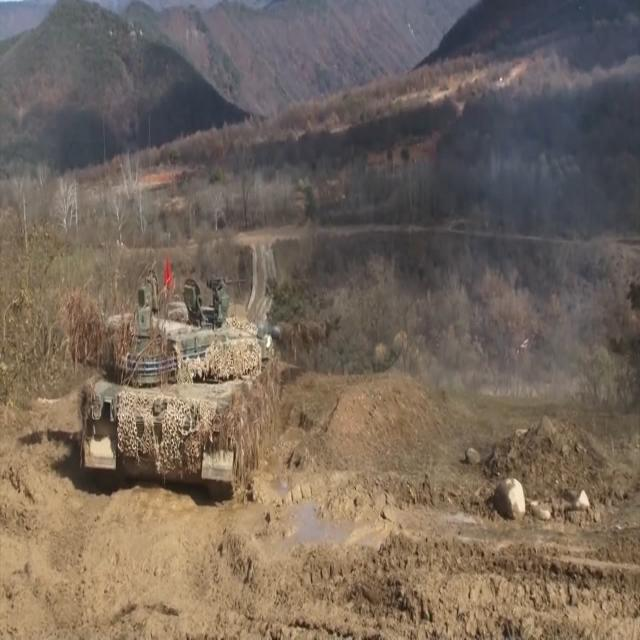korea tank: (68, 270, 342, 505)
